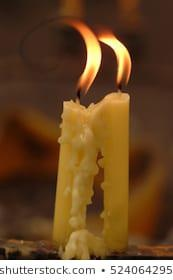fire: (70, 23, 135, 94)
